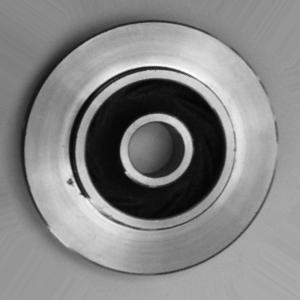crack: (63, 171, 82, 192)
scratch: (86, 192, 113, 224)
unpolished_casting: (20, 19, 279, 277)
